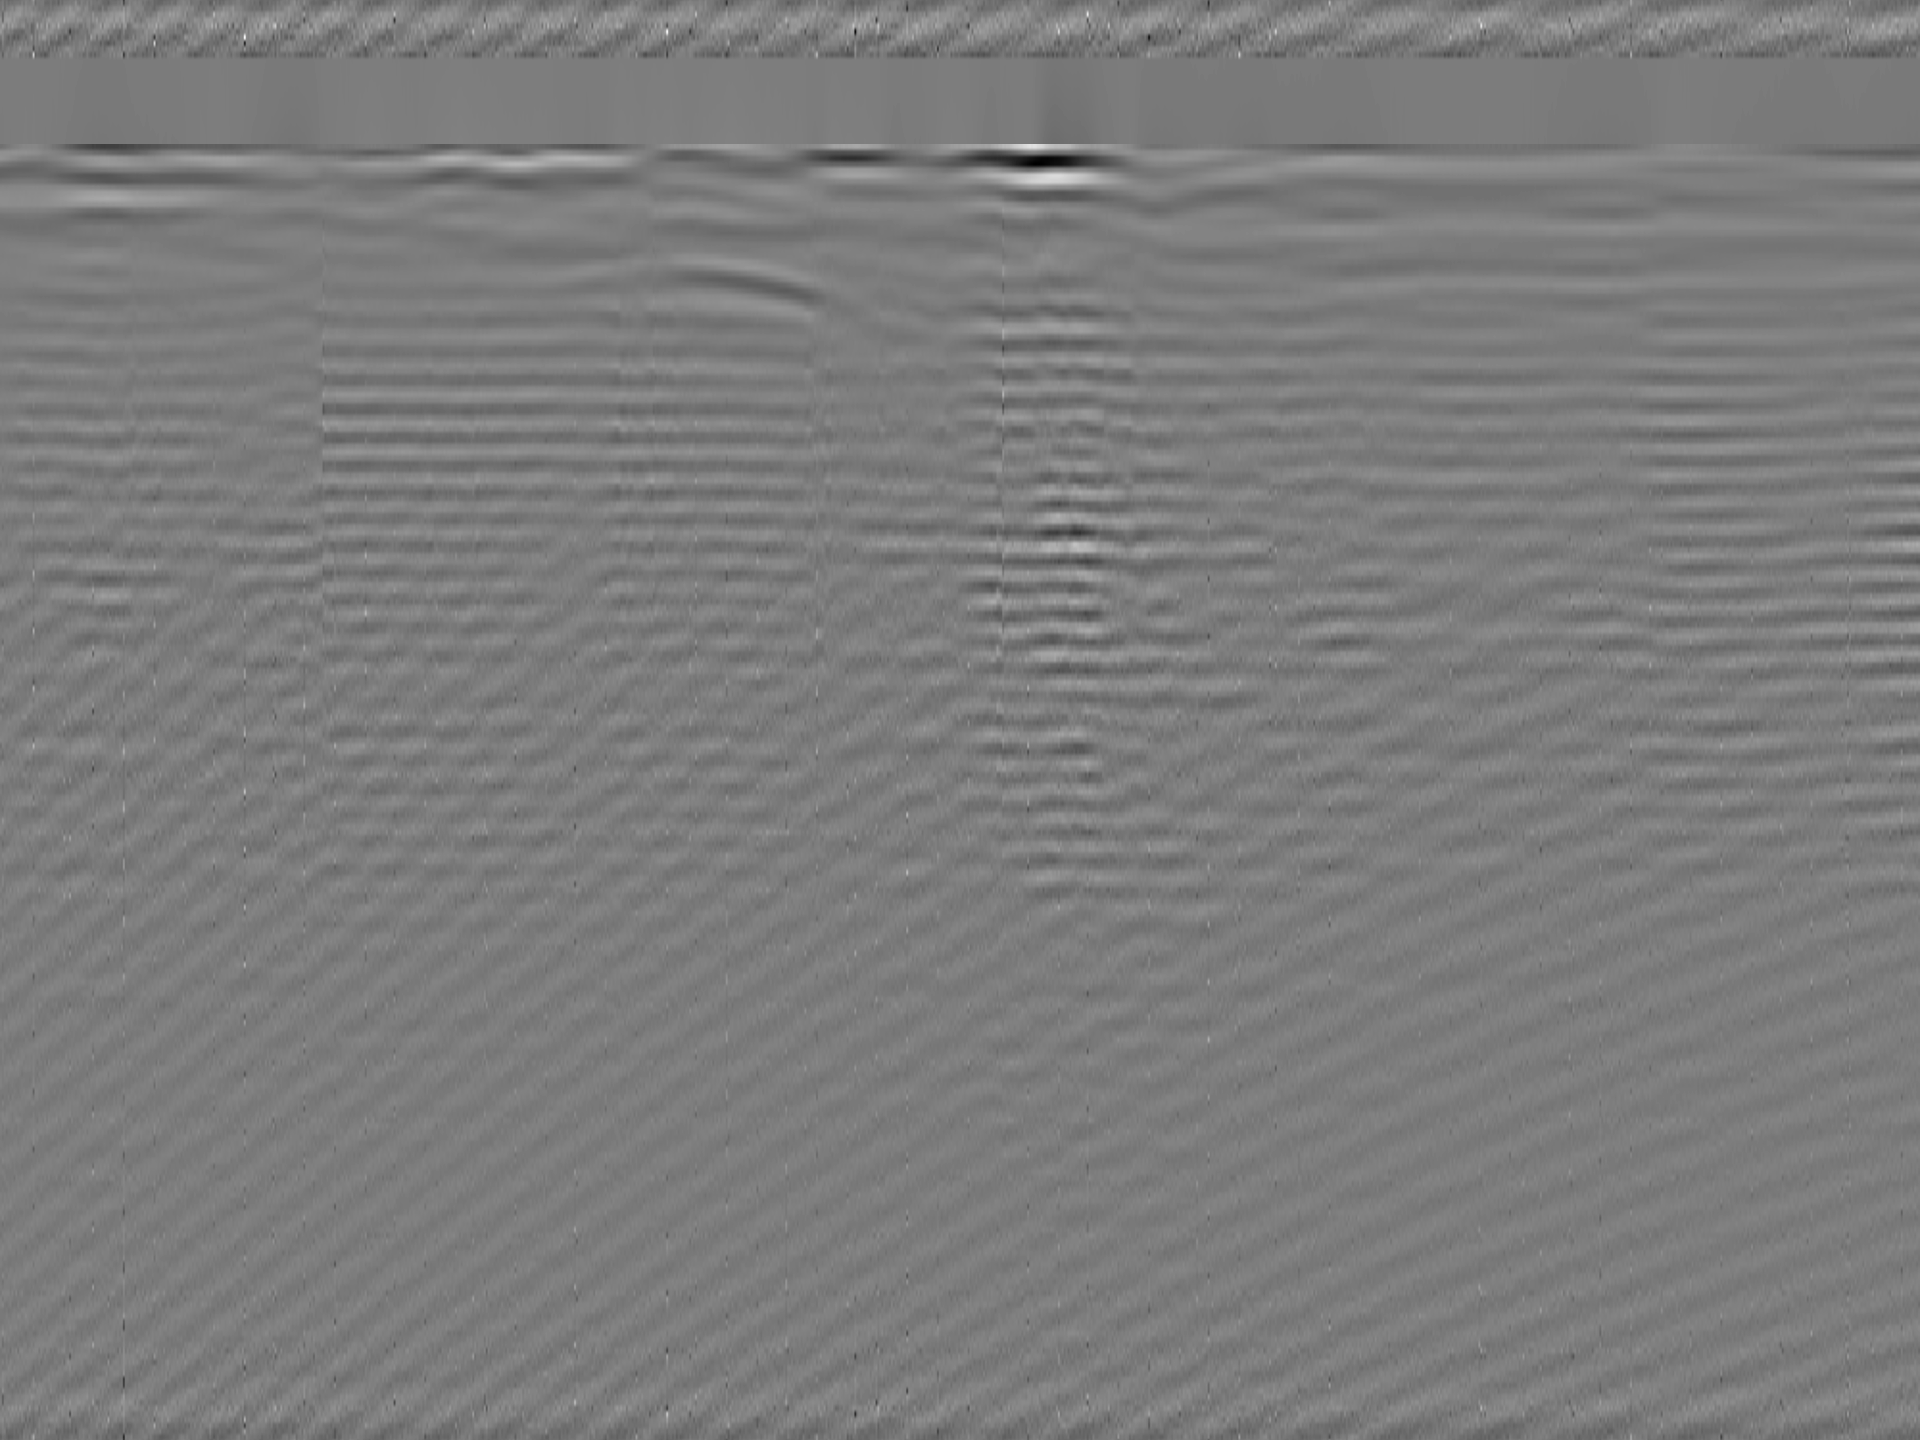Tunnel: (481, 259, 925, 340)
